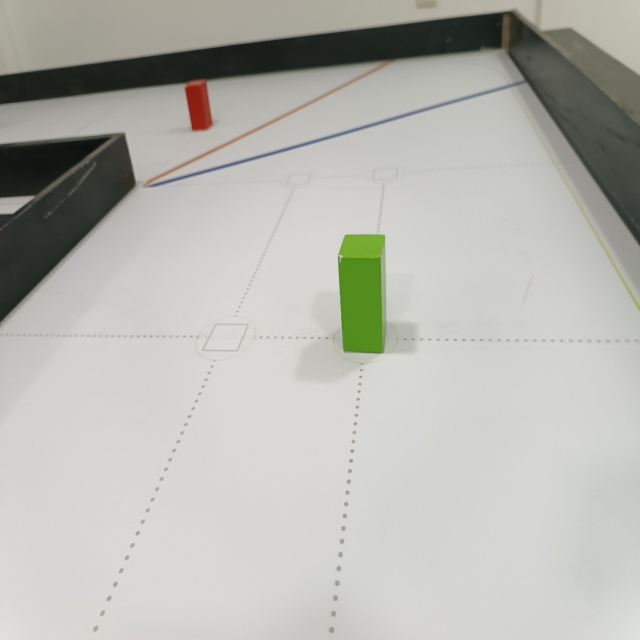blue line: (145, 76, 531, 193)
green rectangular prism: (334, 232, 391, 356)
orange line: (143, 56, 396, 188)
red rectangular prism: (184, 80, 214, 130)
